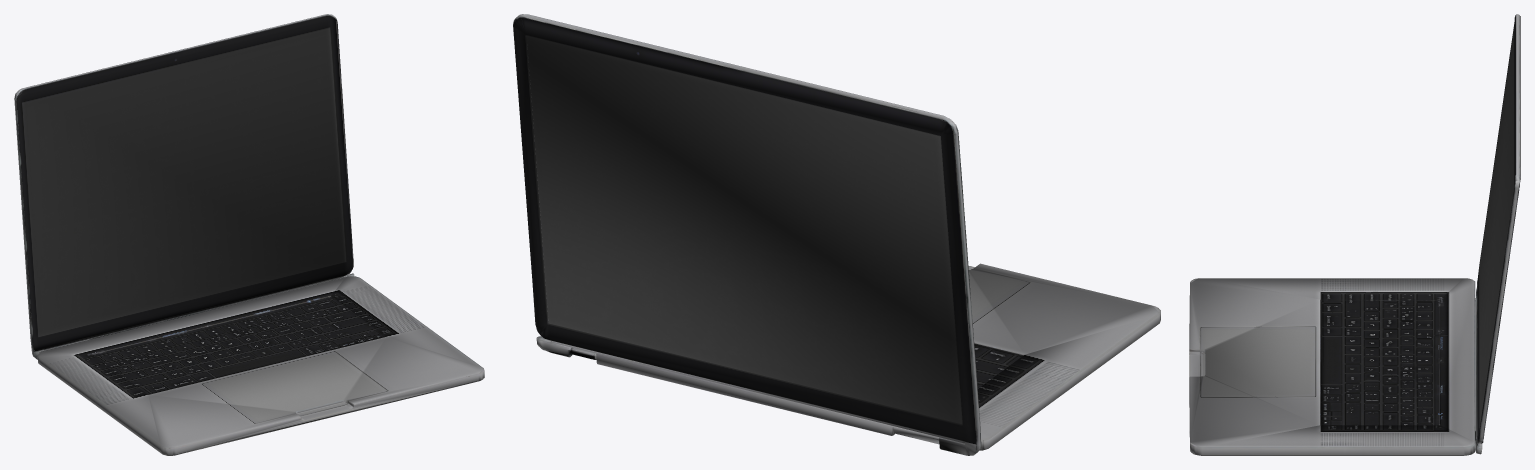
The model's file is ENV_laptop_v001.fbx.
The picture shows the model from 3 angles, left to right: view 1: azimuth 30°, elevation 25°; view 2: azimuth 150°, elevation 25°; view 3: azimuth 270°, elevation 25°; orthographic projection. The views are drawn at different scales.
Parts seen in each view (by area): view 1: tripo_node_810d4105-4ff8-4004-abdd-1faa862686ab; view 2: tripo_node_810d4105-4ff8-4004-abdd-1faa862686ab; view 3: tripo_node_810d4105-4ff8-4004-abdd-1faa862686ab.
Part boxes in pixels (left/top/right/bottom): tripo_node_810d4105-4ff8-4004-abdd-1faa862686ab: left=14, top=14, right=484, bottom=455; tripo_node_810d4105-4ff8-4004-abdd-1faa862686ab: left=513, top=14, right=1160, bottom=455; tripo_node_810d4105-4ff8-4004-abdd-1faa862686ab: left=1189, top=14, right=1520, bottom=455.
Bounding box in the file's own units: 99.8 × 76.76 × 82.62.
Materials: 1 (1 with a texture image).
